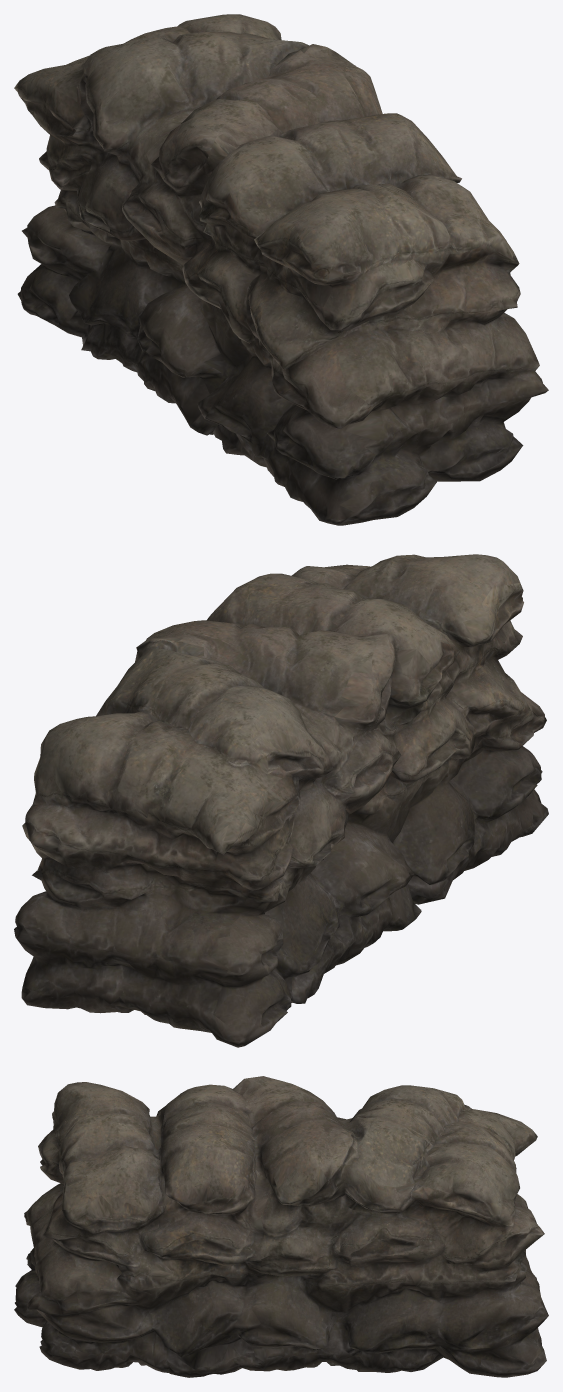
The model's file is SM_Sandbags03.glb.
The picture shows the model from 3 angles, top to bottom: view 1: azimuth 30°, elevation 25°; view 2: azimuth 150°, elevation 25°; view 3: azimuth 270°, elevation 25°; orthographic projection. The views are drawn at different scales.
Parts seen in each view (by area): view 1: SM_Sandbags03; view 2: SM_Sandbags03; view 3: SM_Sandbags03.
Part boxes in pixels (left/top/right/bottom): SM_Sandbags03: left=14, top=14, right=548, bottom=525; SM_Sandbags03: left=14, top=554, right=548, bottom=1047; SM_Sandbags03: left=14, top=1076, right=548, bottom=1377.
Size of the model in its own units: 1.11 by 1.33 by 2.62.
Materials: 1 (1 with a texture image).
